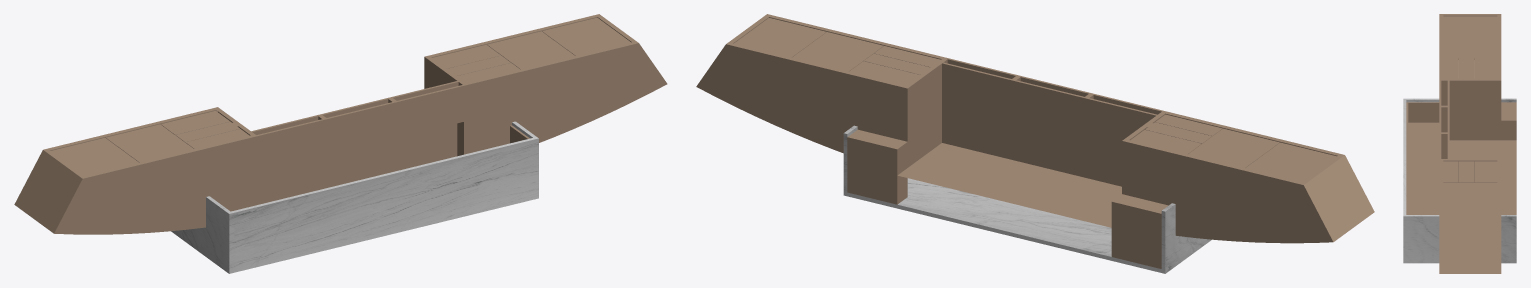
File: Reception Desk_01.fbx
3 views of the same model, side by side, from view 1: azimuth 30°, elevation 25°; view 2: azimuth 150°, elevation 25°; view 3: azimuth 270°, elevation 25° (orthographic). The views are drawn at different scales.
Visible parts, largest first — view 1: Object_1, Object_9, Object_13, Object_21, Object_14, Object_22, Object_18, Object_17, Object_16, Object_20, Object_15, Object_19; view 2: Object_1, Object_9, Object_11, Object_12, Object_13, Object_21, Object_14, Object_22, Object_18, Object_17, Object_20, Object_15 (+2 smaller); view 3: Object_1, Object_10, Object_9, Object_21, Object_22, Object_14, Object_13, Object_12, Object_17, Object_18, Object_15, Object_16 (+4 smaller).
Part boxes in pixels (x1,y1,x2,y2): Object_1: (14,14,667,234); Object_9: (171,121,538,273); Object_13: (542,17,630,55); Object_21: (106,124,193,162); Object_14: (487,31,574,69); Object_22: (51,138,138,175); Object_18: (160,110,229,134); Object_17: (432,44,500,68); Object_16: (447,55,510,75); Object_20: (185,129,249,148); Object_15: (457,63,519,82); Object_19: (175,121,239,142); Object_1: (696,14,1374,243); Object_9: (843,125,1211,273); Object_11: (847,129,907,204); Object_12: (1111,194,1168,268); Object_13: (734,18,826,57); Object_21: (1188,128,1279,168); Object_14: (792,32,883,71); Object_22: (1245,142,1336,181); Object_18: (1131,130,1201,154); Object_17: (849,61,919,85); Object_20: (1155,114,1222,135); Object_15: (874,46,940,67); Object_1: (1439,14,1516,273); Object_10: (1406,102,1439,214); Object_9: (1403,98,1516,263); Object_21: (1443,37,1497,59); Object_22: (1443,16,1497,37); Object_14: (1443,182,1497,203); Object_13: (1443,203,1497,223); Object_12: (1501,102,1516,140); Object_17: (1474,161,1497,182); Object_18: (1474,58,1497,78); Object_15: (1443,161,1458,182); Object_16: (1459,161,1474,182).
Size of the model in its own units: 214 by 36.09 by 44.
